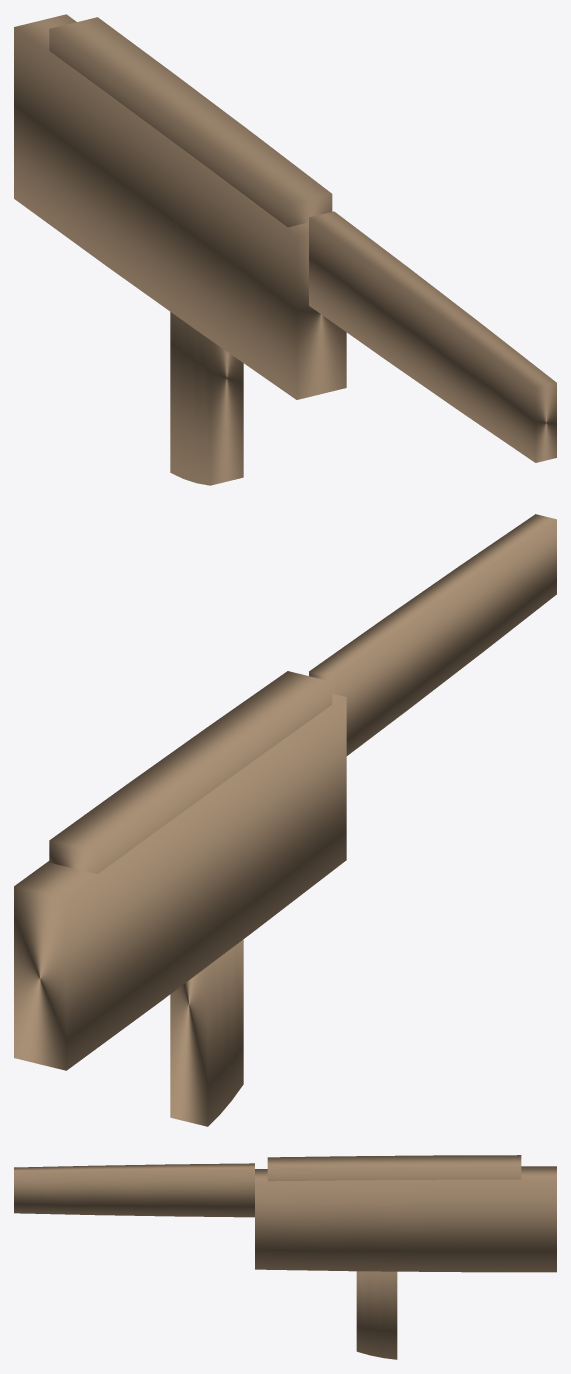
Rendered from wpn_ak47_m.glb.
3 views of the same model, one above another, from view 1: azimuth 30°, elevation 25°; view 2: azimuth 150°, elevation 25°; view 3: azimuth 270°, elevation 25° (orthographic). The views are drawn at different scales.
Visible parts, largest first — view 1: SubMesh_0_Receiver, SubMesh_3_BarrelSight, SubMesh_1_Action, SubMesh_2_Magazine; view 2: SubMesh_0_Receiver, SubMesh_3_BarrelSight, SubMesh_1_Action, SubMesh_2_Magazine; view 3: SubMesh_0_Receiver, SubMesh_3_BarrelSight, SubMesh_1_Action, SubMesh_2_Magazine.
Boxes of the visible parts, x1,y1,x2,y2 form: SubMesh_0_Receiver: (14, 14, 346, 399); SubMesh_3_BarrelSight: (309, 211, 556, 462); SubMesh_1_Action: (49, 17, 332, 227); SubMesh_2_Magazine: (170, 312, 243, 485); SubMesh_0_Receiver: (14, 693, 346, 1070); SubMesh_3_BarrelSight: (309, 514, 556, 755); SubMesh_1_Action: (49, 671, 332, 874); SubMesh_2_Magazine: (170, 939, 243, 1126); SubMesh_0_Receiver: (255, 1166, 556, 1272); SubMesh_3_BarrelSight: (14, 1163, 254, 1217); SubMesh_1_Action: (267, 1155, 521, 1181); SubMesh_2_Magazine: (356, 1271, 397, 1359).
Bounding box in the file's own units: 0.056 × 0.3675 × 0.935.
